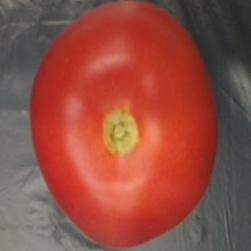unripe: (26, 0, 223, 251)
